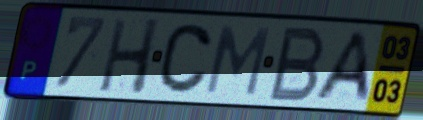7: (54, 13, 109, 92)
A: (309, 30, 373, 104)
B: (265, 24, 328, 104)
C: (155, 21, 216, 97)
H: (96, 16, 164, 97)
M: (202, 23, 274, 99)
